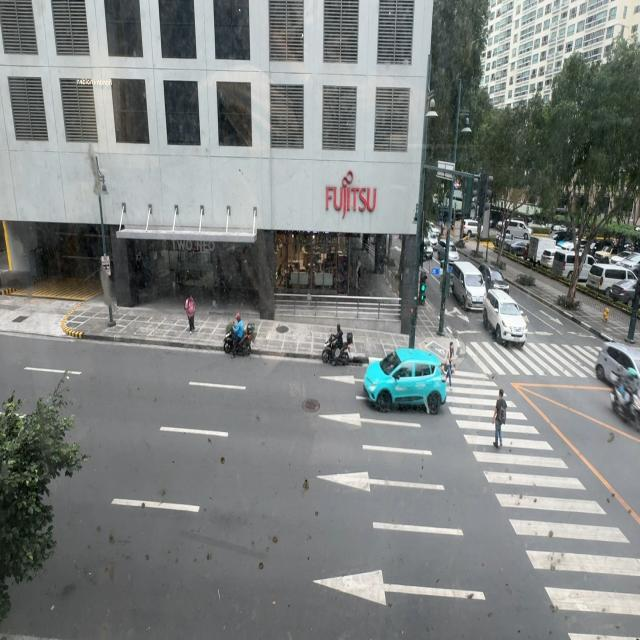crossing: (491, 388, 506, 448), (444, 342, 456, 381)
pedestrain: (185, 293, 195, 335)
